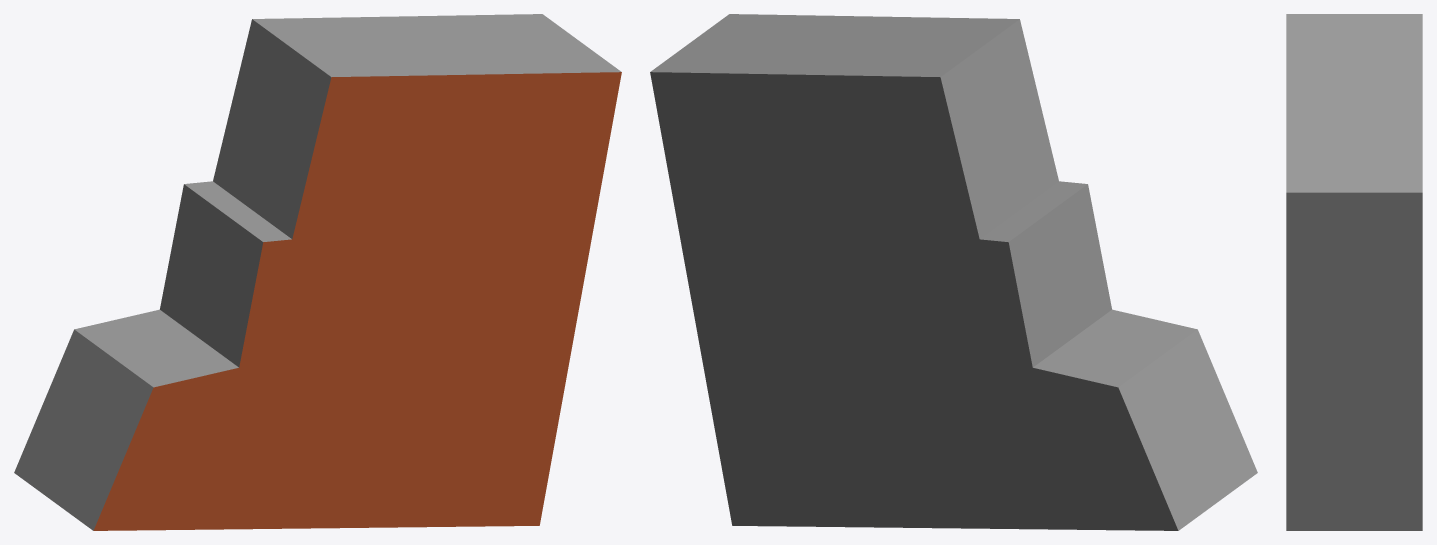
The model's file is construction_3177_assumed_A_Casa_h6m.obj.
3 renders of one model, left to right at view 1: azimuth 30°, elevation 25°; view 2: azimuth 150°, elevation 25°; view 3: azimuth 270°, elevation 25°, orthographic. The views are drawn at different scales.
Parts seen in each view (by area): view 1: construction_3177_assumed_A_Casa; view 2: construction_3177_assumed_A_Casa; view 3: construction_3177_assumed_A_Casa.
Part boxes in pixels (x1,y1,x2,y2): construction_3177_assumed_A_Casa: [14, 14, 621, 530]; construction_3177_assumed_A_Casa: [650, 14, 1257, 530]; construction_3177_assumed_A_Casa: [1286, 14, 1422, 530].
Size of the model in its own units: 23.06 by 20.83 by 6.
